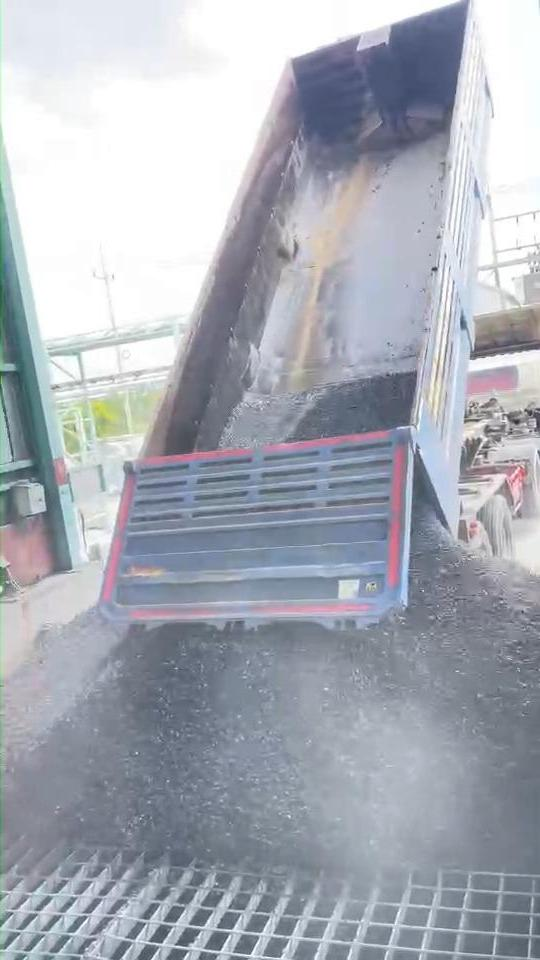gravel: (1, 513, 540, 872), (220, 372, 415, 448)
